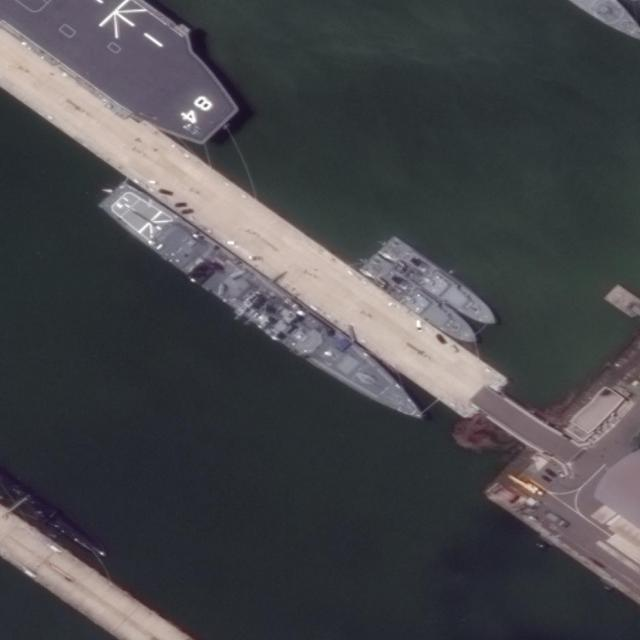Destroyer: (92, 176, 438, 436)
Other Warship: (372, 230, 502, 332), (356, 253, 483, 352)
Submarine: (1, 480, 121, 575)
